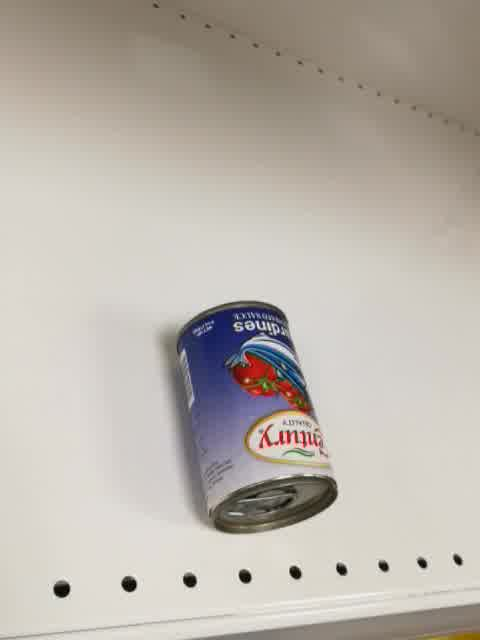sardine: (173, 297, 340, 536)
